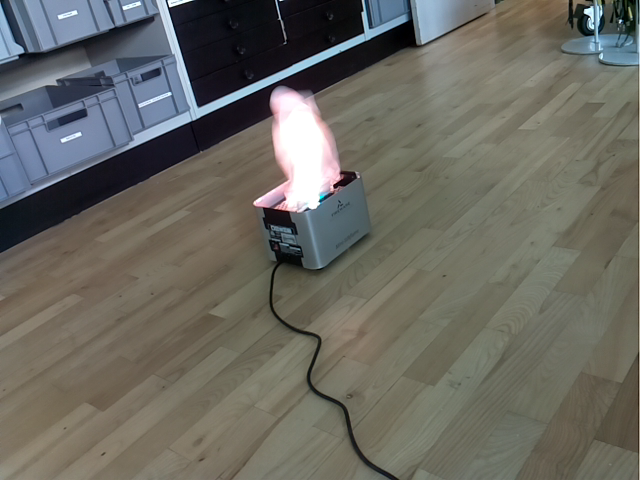fire: (270, 85, 342, 212)
